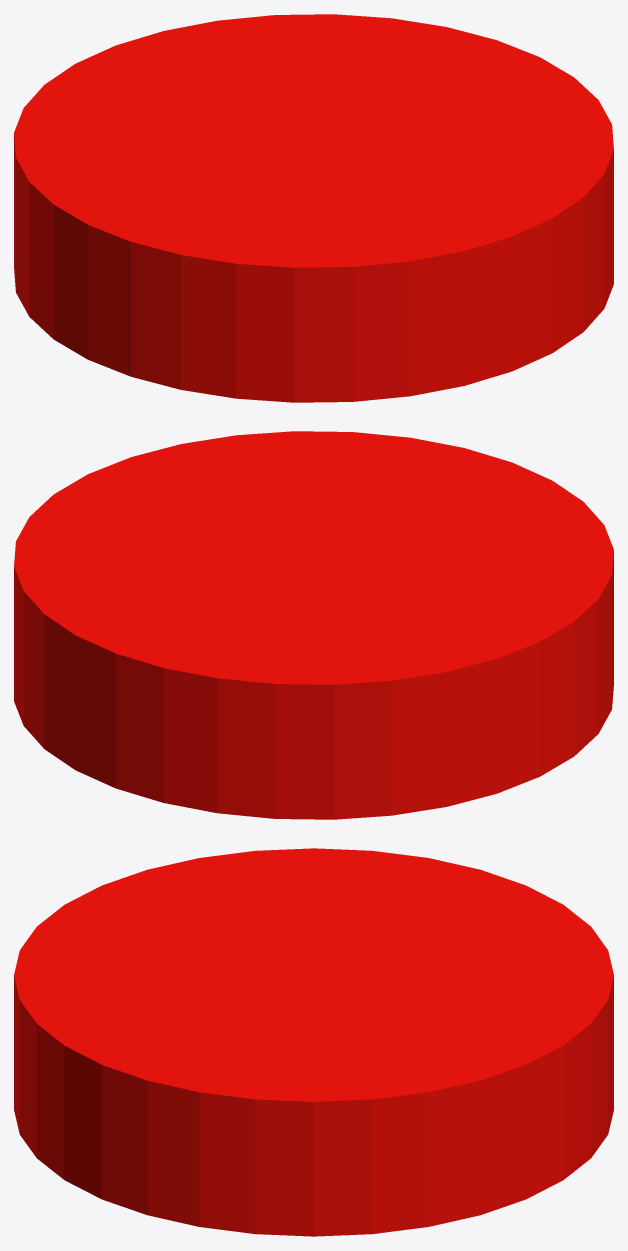
The model's file is Player_2.gltf.
3 views of the same model, one above another, from view 1: azimuth 30°, elevation 25°; view 2: azimuth 150°, elevation 25°; view 3: azimuth 270°, elevation 25° (orthographic).
Parts seen in each view (by area): view 1: Orange2; view 2: Orange2; view 3: Orange2.
Part boxes in pixels (x1,y1,x2,y2): Orange2: (14, 14, 613, 402); Orange2: (14, 431, 613, 819); Orange2: (14, 848, 613, 1236).
Size of the model in its own units: 4 by 0.9907 by 4.
